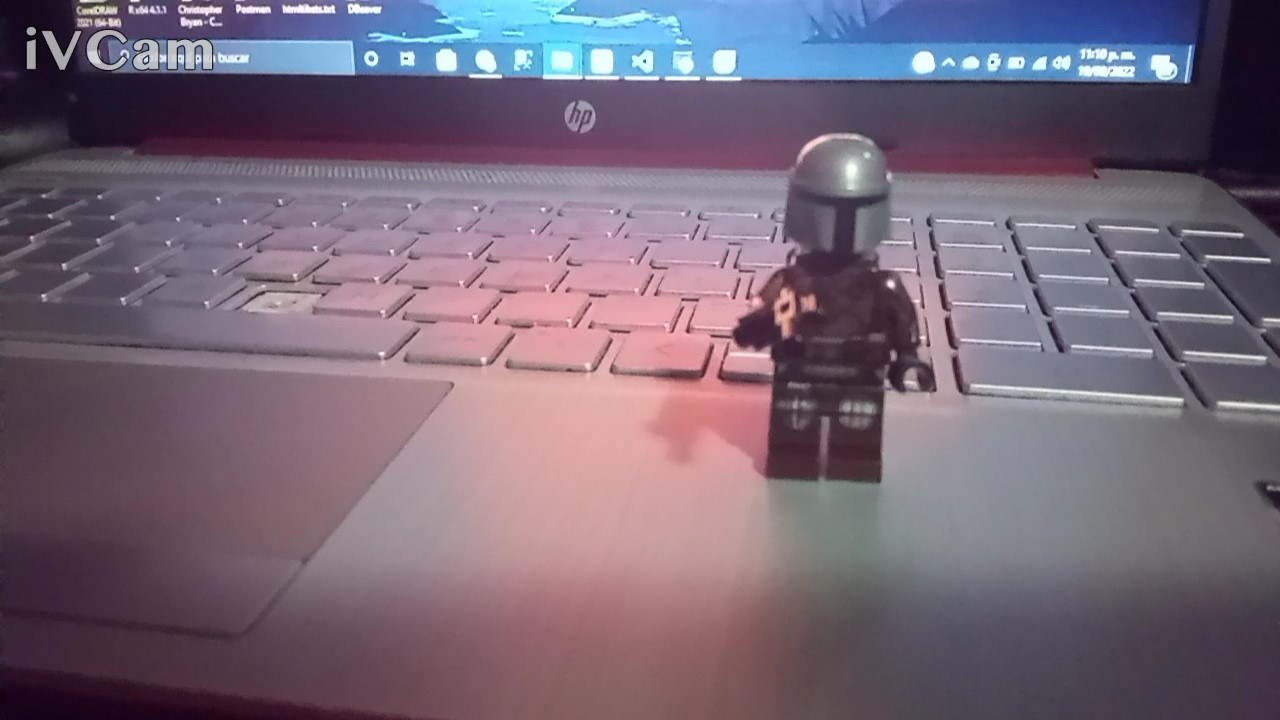mandalorian: (734, 108, 948, 519)
